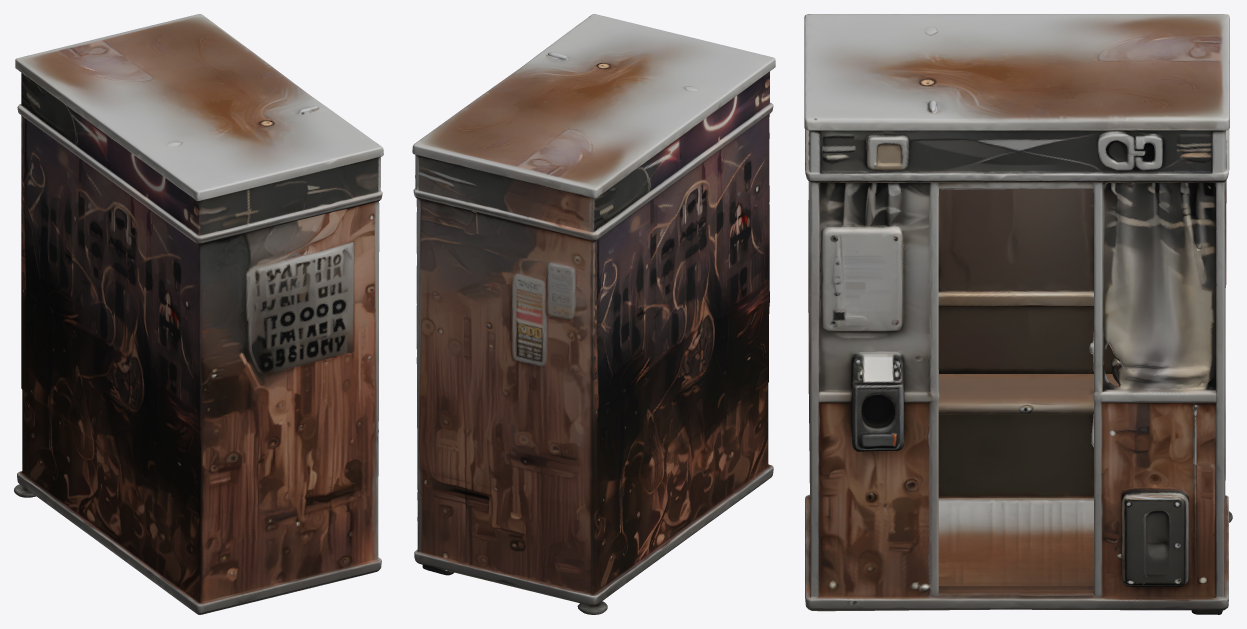
The model's file is prop-photo-booth.glb.
3 renders of one model, left to right at view 1: azimuth 30°, elevation 25°; view 2: azimuth 150°, elevation 25°; view 3: azimuth 270°, elevation 25°, orthographic. The views are drawn at different scales.
Visible parts, largest first — view 1: tripo_node_1a48894b-4601-471b-929e-ec85168e6dc5; view 2: tripo_node_1a48894b-4601-471b-929e-ec85168e6dc5; view 3: tripo_node_1a48894b-4601-471b-929e-ec85168e6dc5.
Part boxes in pixels (bbox=[...]): tripo_node_1a48894b-4601-471b-929e-ec85168e6dc5: bbox=[14, 14, 383, 614]; tripo_node_1a48894b-4601-471b-929e-ec85168e6dc5: bbox=[412, 14, 775, 614]; tripo_node_1a48894b-4601-471b-929e-ec85168e6dc5: bbox=[804, 14, 1232, 614].
Bounding box in the file's own units: 1.26 × 2.5 × 1.92.
1 material, 1 textured.
